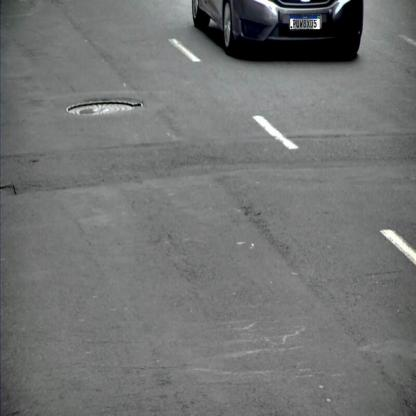PlacaM: (290, 14, 320, 30)
